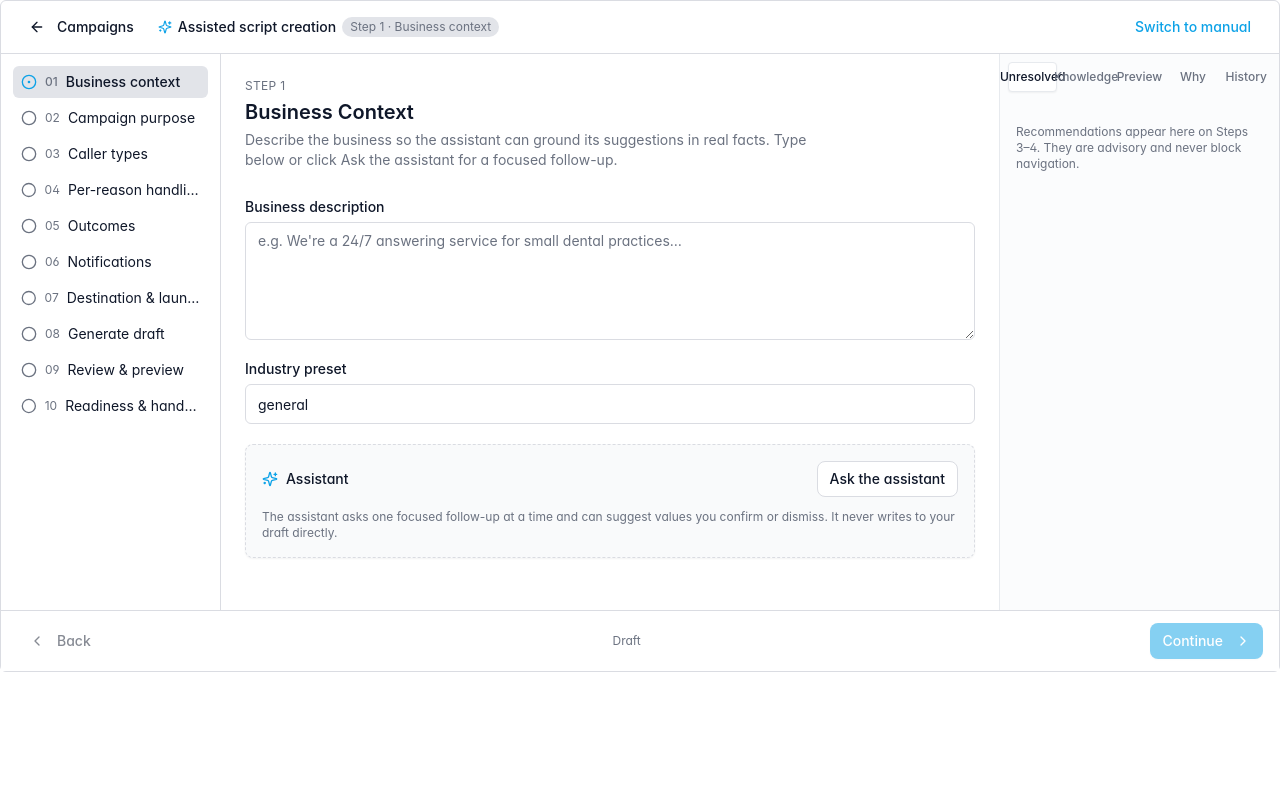
Scenario: ASC wizard shell smoke (Slice 1) › Continue gates on Step 1 business description and advances when filled
Expected: the button with test id "asc-footer-continue" is disabled, top-left (1150, 623), bottom-right (1263, 659)
Replace the text in the text box with test id "asc-business-description" with "We answer phones for dentists.": (610, 281) top-left (245, 222), bottom-right (975, 340)
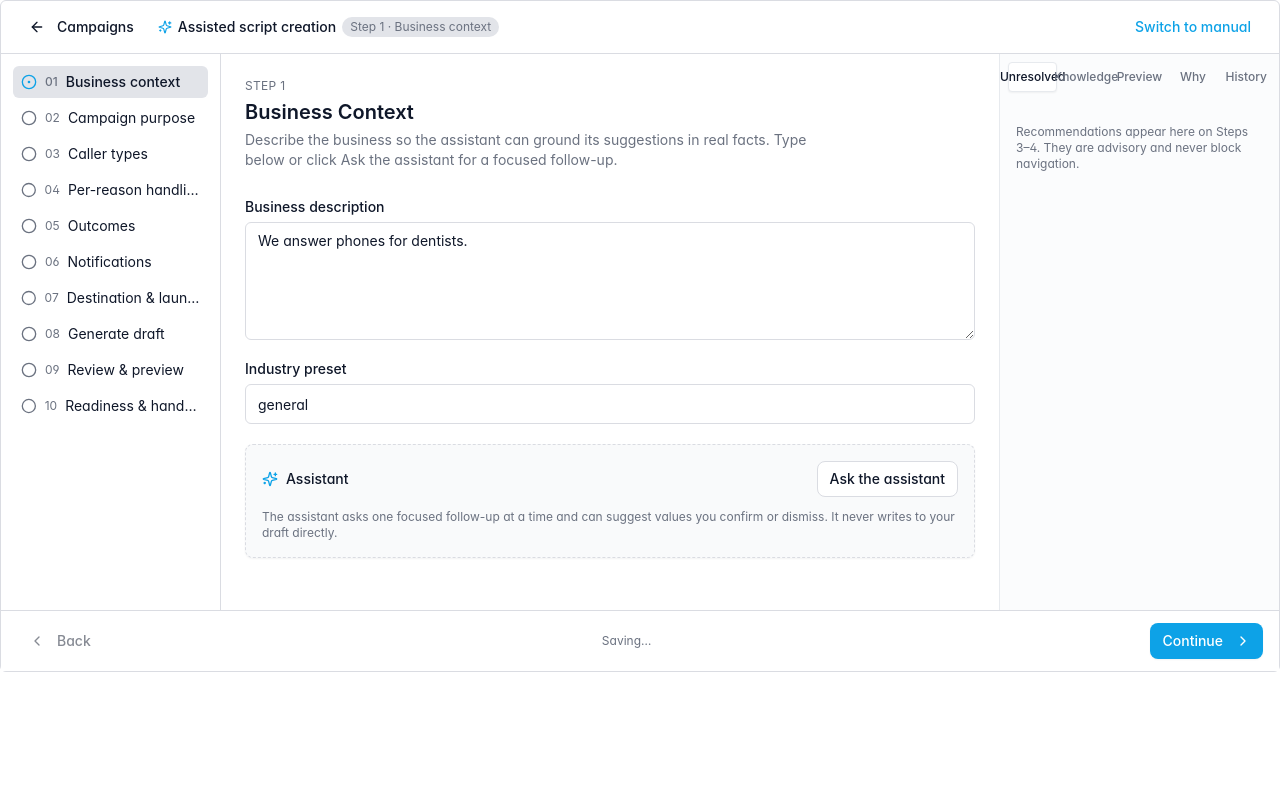
Expected: the button with test id "asc-footer-continue" is enabled, top-left (1150, 623), bottom-right (1263, 659)
